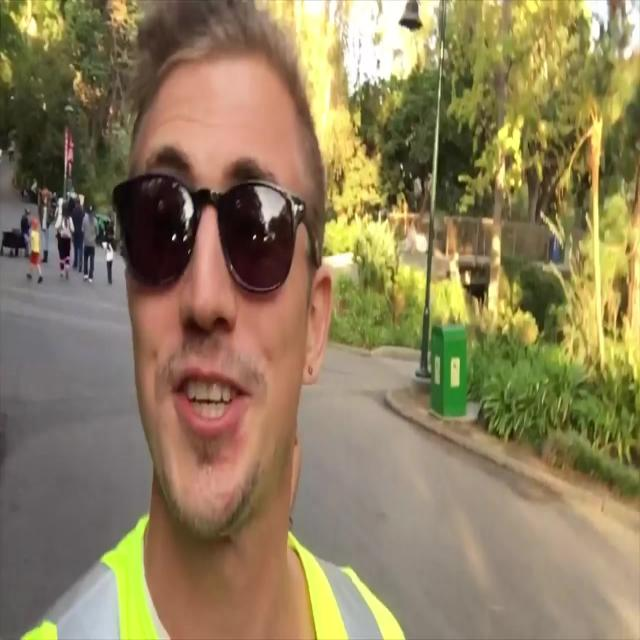Reflective-Jacket: (24, 519, 410, 640)
